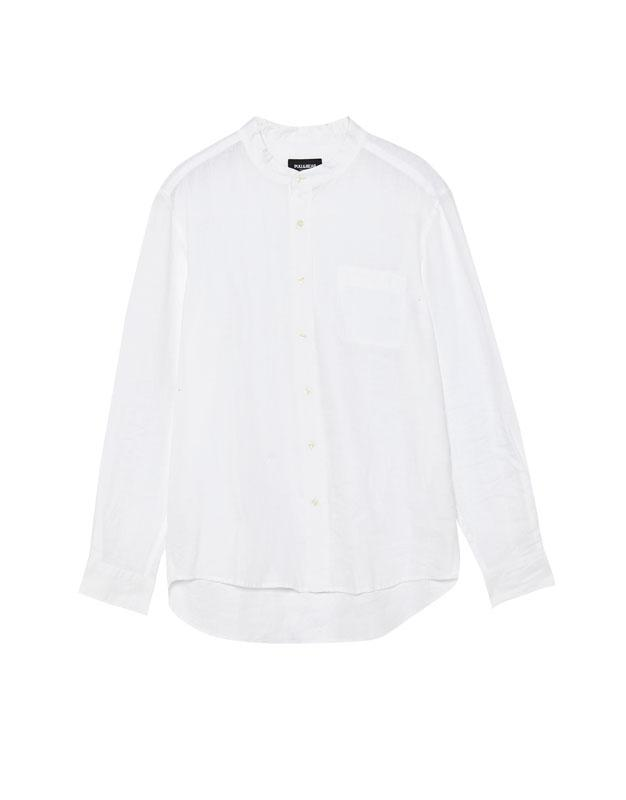teeshirt: (73, 106, 564, 648)
